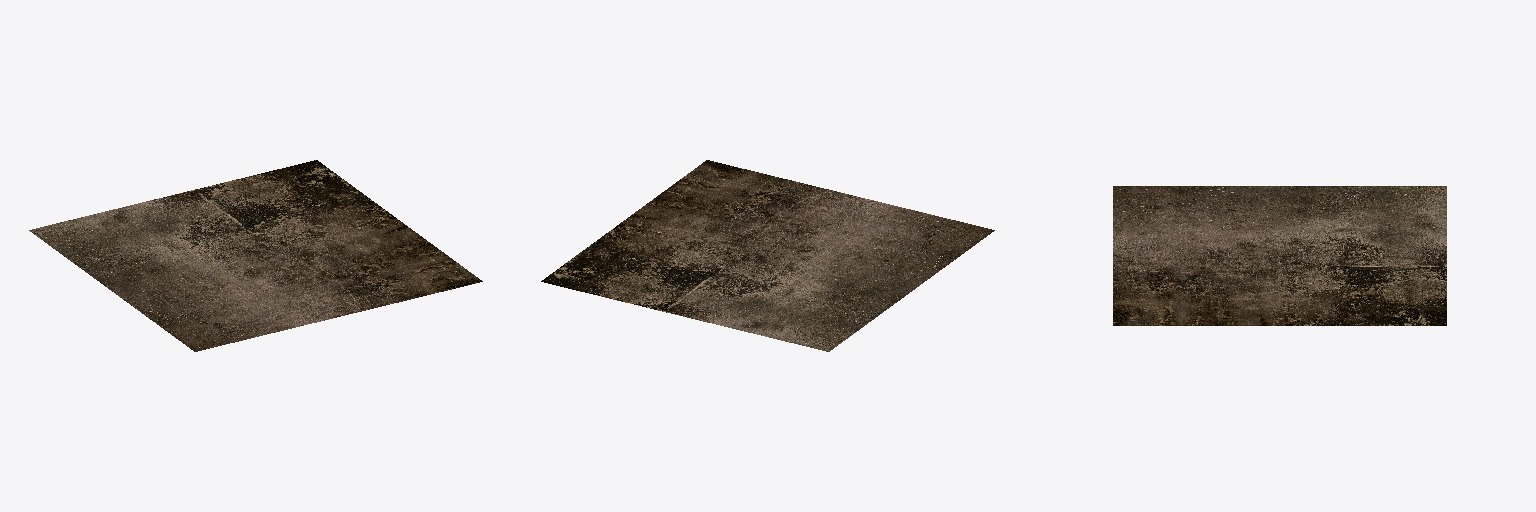
3 renders of one model, left to right at view 1: azimuth 30°, elevation 25°; view 2: azimuth 150°, elevation 25°; view 3: azimuth 270°, elevation 25°, orthographic.
Visible parts, largest first — view 1: 平面; view 2: 平面; view 3: 平面.
Boxes of the visible parts, box(x1,y1,x2,y2) form: 平面: box(29, 160, 482, 351); 平面: box(541, 160, 994, 351); 平面: box(1113, 186, 1446, 325).
Bounding box in the file's own units: 2 × 0 × 2.
1 materials, 1 textured.